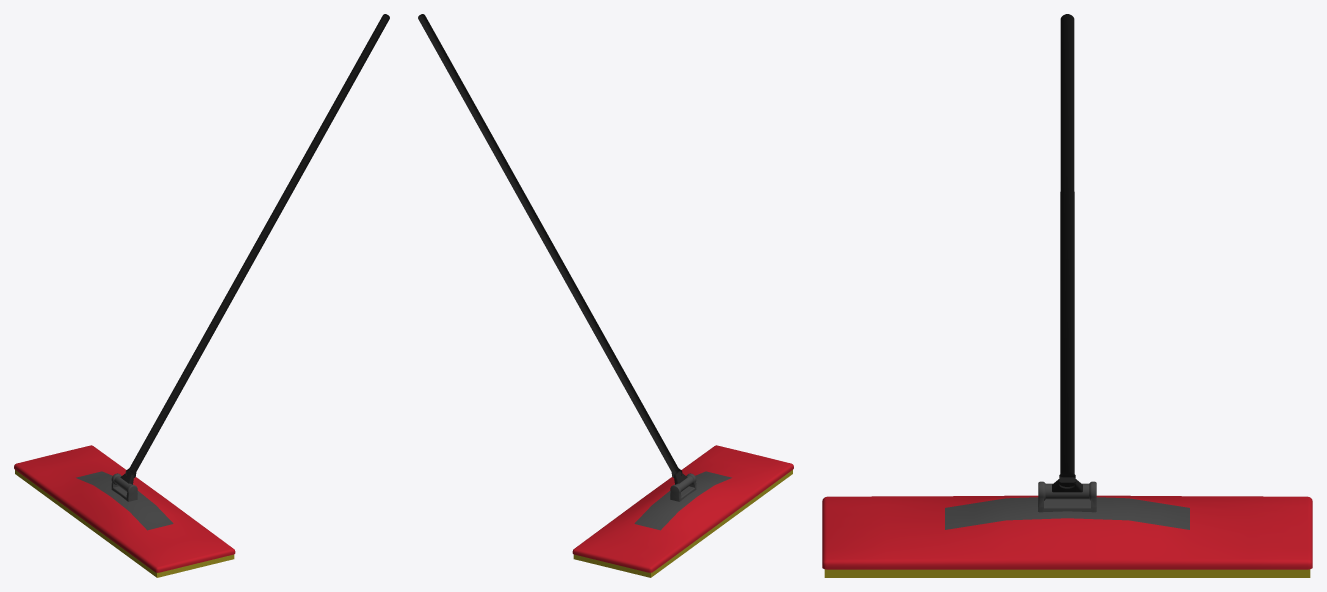
File: brush.fbx
The picture shows the model from 3 angles, left to right: view 1: azimuth 30°, elevation 25°; view 2: azimuth 150°, elevation 25°; view 3: azimuth 270°, elevation 25°; orthographic projection. The views are drawn at different scales.
Visible parts, largest first — view 1: Cube, Cube.002, Cube.003, Cylinder; view 2: Cube, Cube.002, Cube.003, Cylinder; view 3: Cube, Cube.002, Cube.003, Cylinder.
Boxes of the visible parts, x1,y1,x2,y2 form: Cube: (14, 445, 235, 572); Cube.002: (125, 14, 389, 477); Cube.003: (15, 470, 234, 577); Cylinder: (111, 473, 137, 501); Cube: (572, 445, 793, 572); Cube.002: (418, 14, 682, 477); Cube.003: (573, 470, 792, 577); Cylinder: (670, 473, 696, 501); Cube: (822, 495, 1312, 569); Cube.002: (1059, 14, 1075, 488); Cube.003: (824, 569, 1310, 577); Cylinder: (1038, 481, 1096, 512).
Size of the model in its own units: 245 by 337 by 200.
